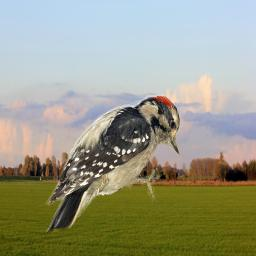Woodpecker: (34, 93, 180, 239)
